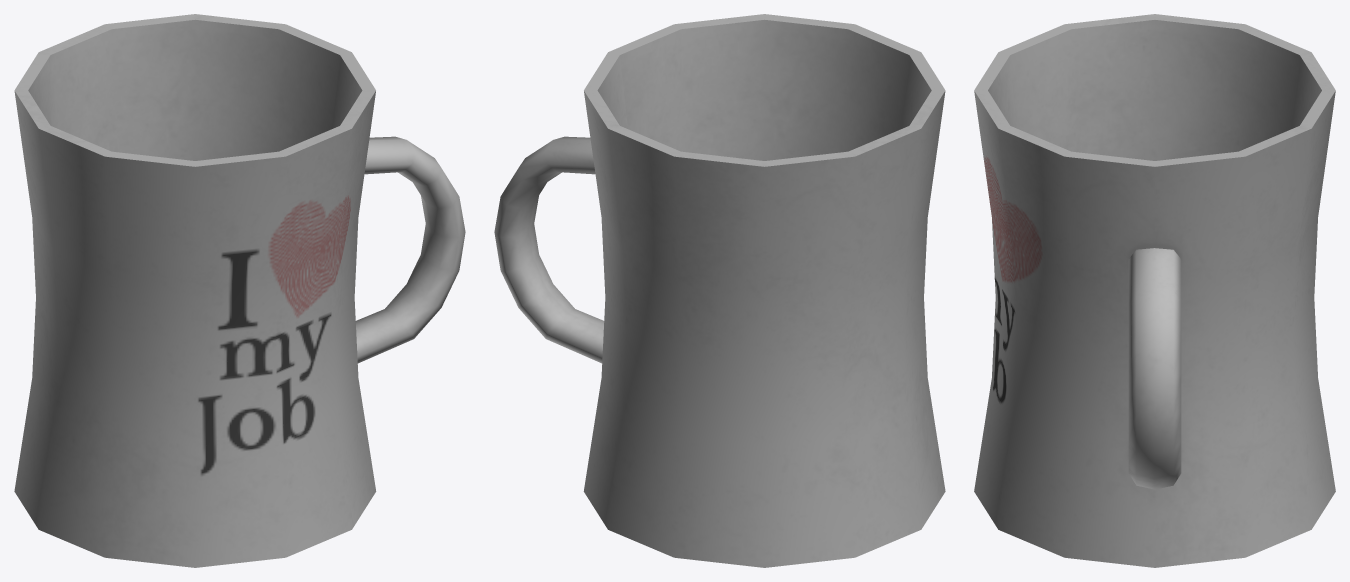
The model's file is CupC.fbx.
3 renders of one model, left to right at view 1: azimuth 30°, elevation 25°; view 2: azimuth 150°, elevation 25°; view 3: azimuth 270°, elevation 25°, orthographic.
Visible parts, largest first — view 1: CupC; view 2: CupC; view 3: CupC.
Boxes of the visible parts, x1,y1,x2,y2 form: CupC: (14, 14, 465, 567); CupC: (494, 14, 945, 567); CupC: (974, 14, 1335, 567).
Size of the model in its own units: 9.79 by 8.91 by 7.29.
